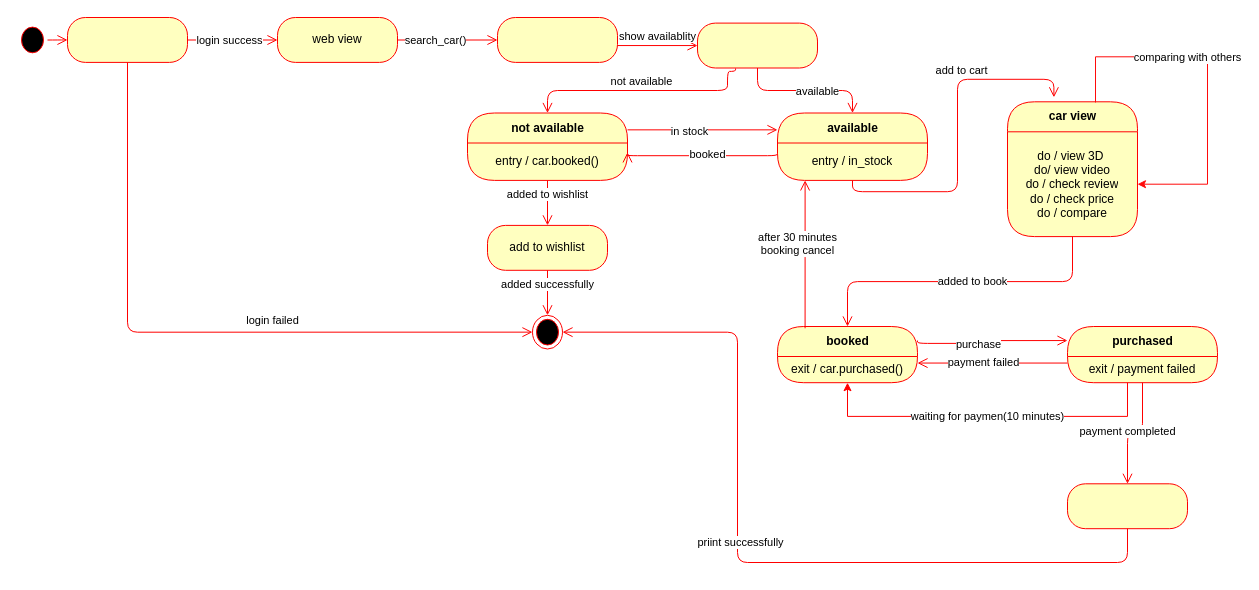
The diagram is 1259 pixels wide and 590 high, and some of its shapes have lost their labels. Here are the shapes that lost their labels. From the top down, the centre of each, then its label:
the point at 127,39: Admin Login
the point at 557,39: add car
the point at 757,45: availability check
the point at 1127,506: invoice print
